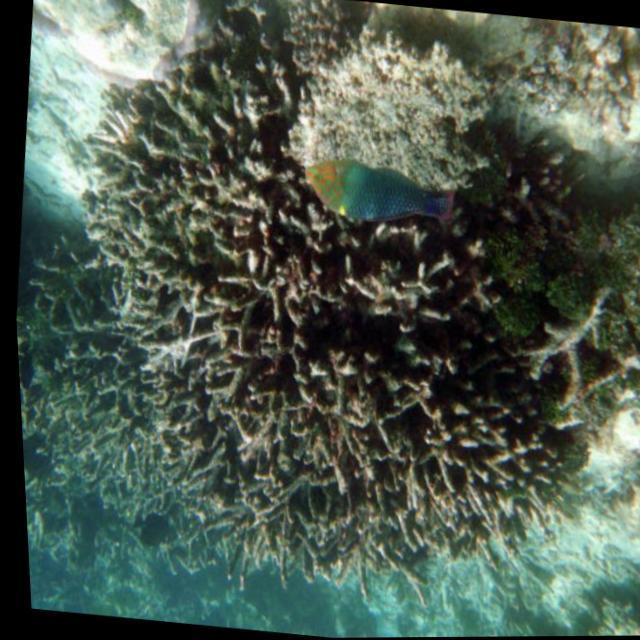Dead Coral: (1, 19, 640, 616)
